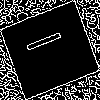I: (25, 24, 71, 55)
